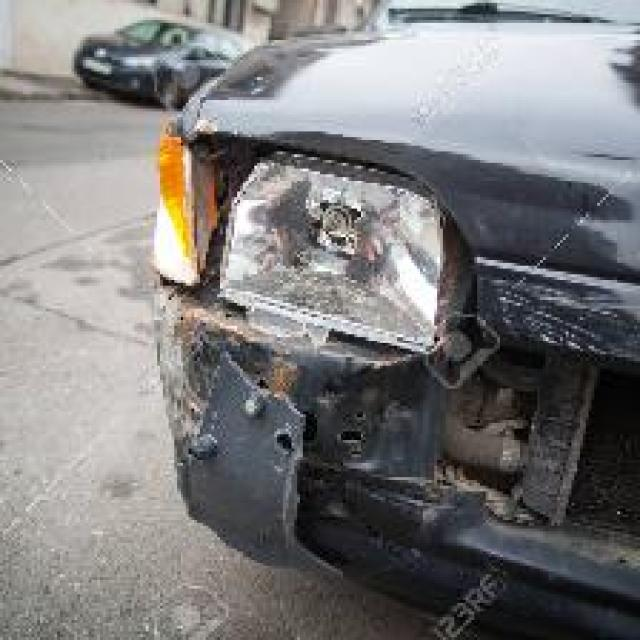head_lamp_severe: (146, 114, 497, 409)
